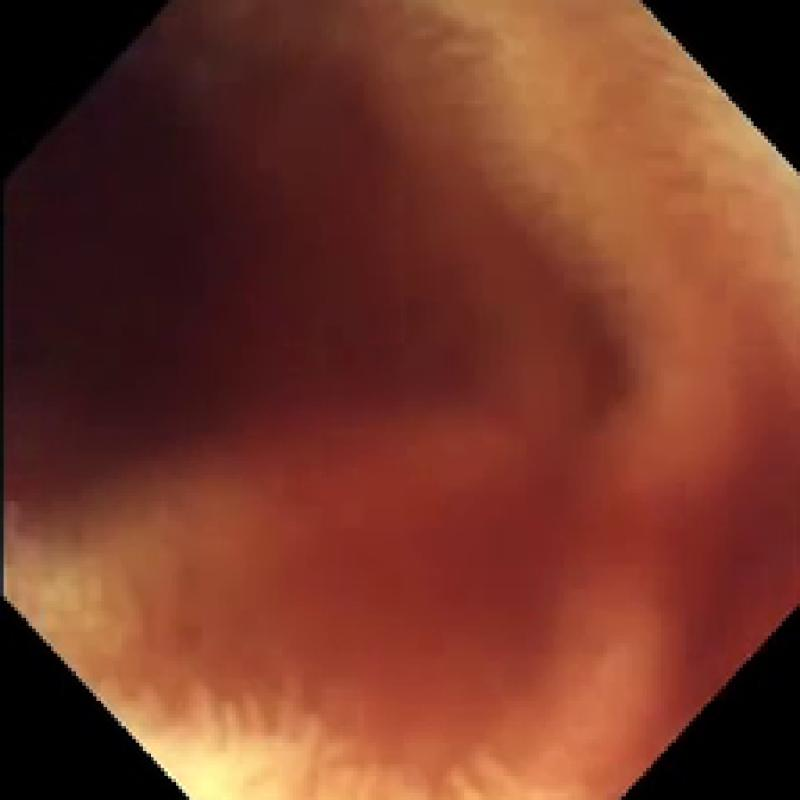bleeding: (21, 25, 796, 707)
